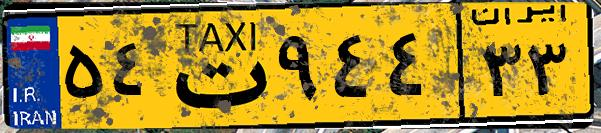3: (475, 38, 525, 113), (525, 38, 570, 115)
4: (385, 28, 445, 110), (330, 28, 385, 110), (110, 28, 158, 98)
5: (57, 26, 110, 100)
9: (270, 28, 330, 110)
ت: (158, 12, 270, 120)
